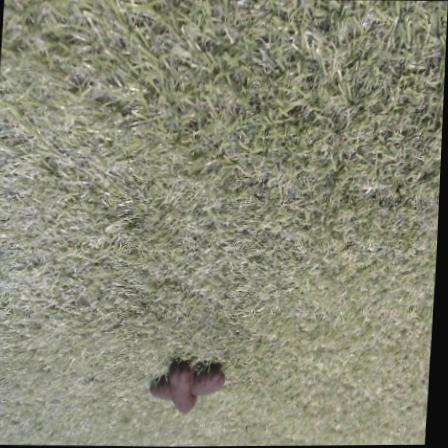dog-poop: (146, 353, 231, 420)
